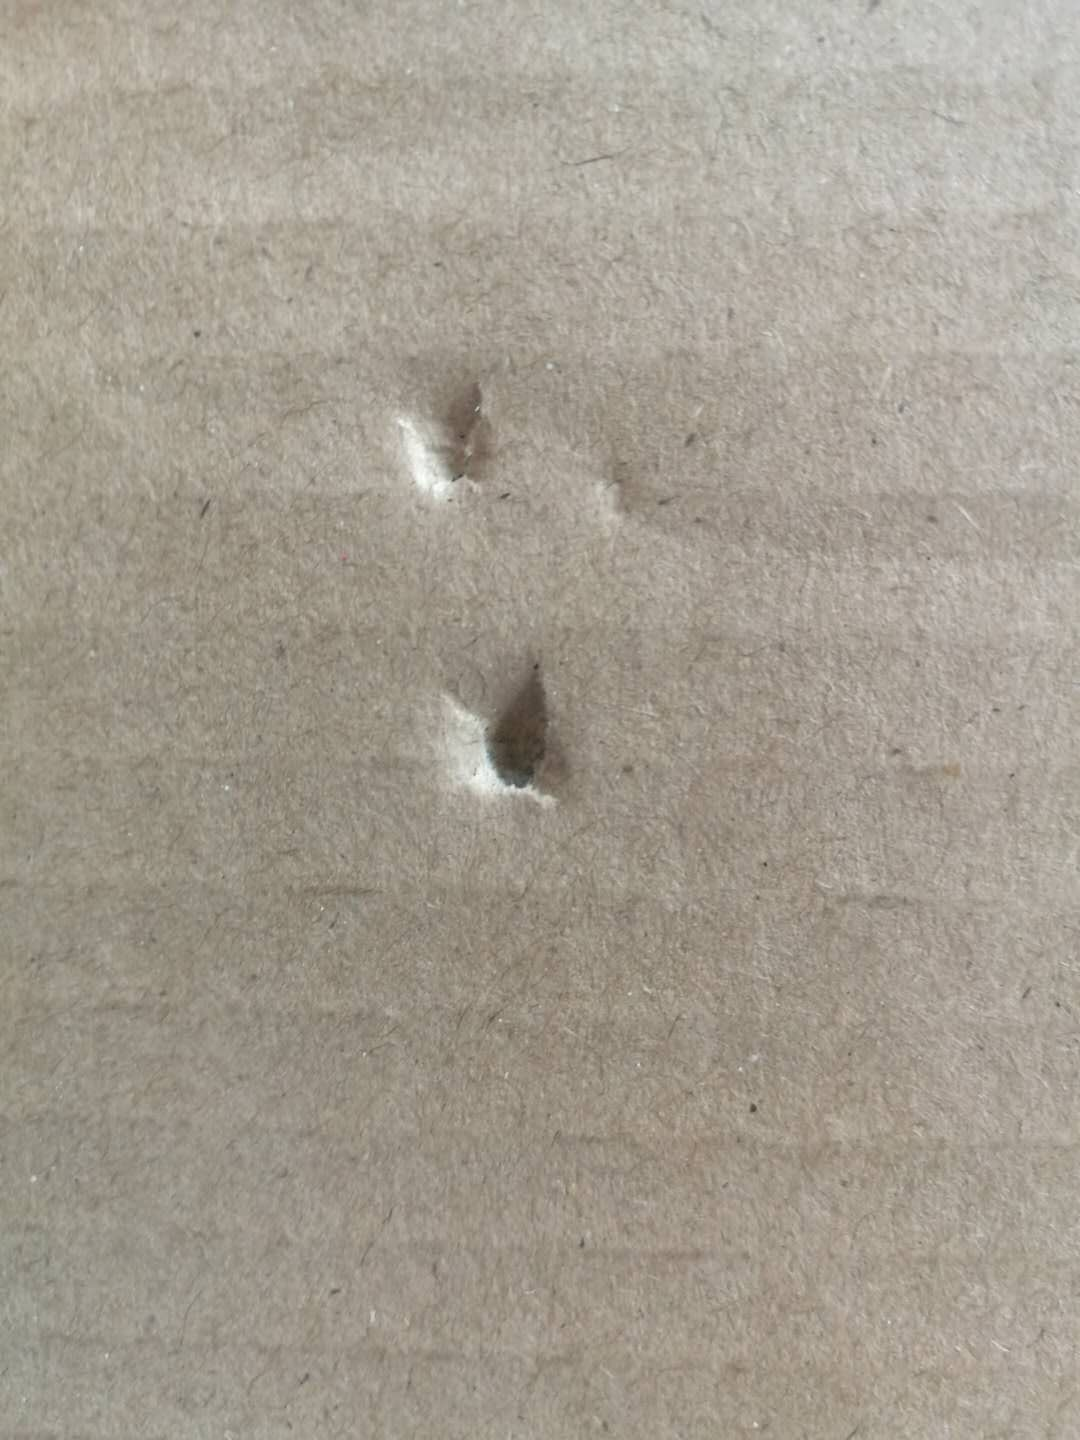defect: (346, 356, 694, 595), (399, 633, 604, 836)
